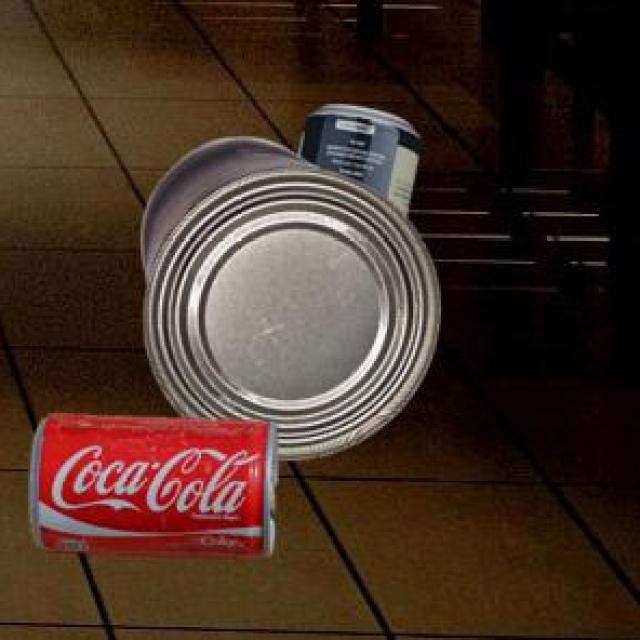logam: (137, 135, 438, 457), (27, 410, 276, 555), (295, 101, 416, 213)
